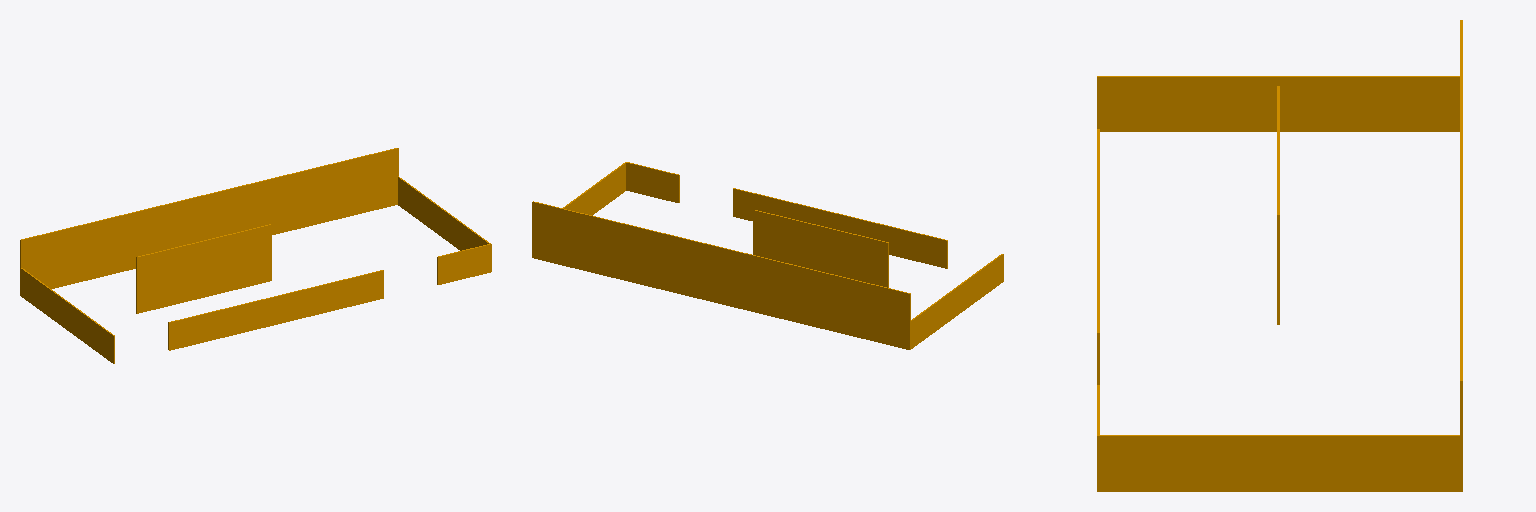
The robot description file, URDF, robot "market_wall":
<robot name="market_wall">
  <link name="market_wall">

    <inertial>
      <mass value="1.0" />
      <!-- center of mass (com) is defined w.r.t. link local coordinate system -->
      <origin xyz="0 0 0" />
      <inertia  ixx="0.0" ixy="0.0"  ixz="0.0"  iyy="0.0"  iyz="0.0"  izz="0.0" />
    </inertial>
    
    <visual>
      <!-- visual origin is defined w.r.t. link local coordinate system -->
      <origin xyz="0 0 0" rpy="0 0 0" />
      <geometry>
        <mesh filename="package://robocup_worlds/Media/models/market_wall.stl" scale="1 1 1"/>
      </geometry>
    </visual>

    <collision>
      <!-- collision origin is defined w.r.t. link local coordinate system -->
      <origin xyz="0 0 0" rpy="0 0 0" />
      <geometry>
        <mesh filename="package://robocup_worlds/Media/models/market_wall.stl" scale="1 1 1"/>
      </geometry>
    </collision>

  </link>

  <gazebo reference="market_wall">
    <material>Gazebo/White</material>
    <turnGravityOff>true</turnGravityOff>
  </gazebo>

  <gazebo>
    <static>true</static>
  </gazebo>

</robot>

--- Render facts (derived) ---
Views: 3 orthographic renders of the robot side by side, from view 1: azimuth 30°, elevation 25°; view 2: azimuth 150°, elevation 25°; view 3: azimuth 270°, elevation 25°.
Model market_wall with 1 links and 0 joints (none), rooted at market_wall, posed all joints at 0.
Links seen in each view (by area): view 1: market_wall; view 2: market_wall; view 3: market_wall.
Boxes of the visible links, left/top/right/bottom form: market_wall: left=20, top=148, right=491, bottom=363; market_wall: left=532, top=162, right=1003, bottom=349; market_wall: left=1097, top=20, right=1462, bottom=491.
Size in the robot's own frame: 14 by 6 by 2 metres.
Meshes: 1 distinct files referenced, 1 mesh visuals loaded (1 binary STL).